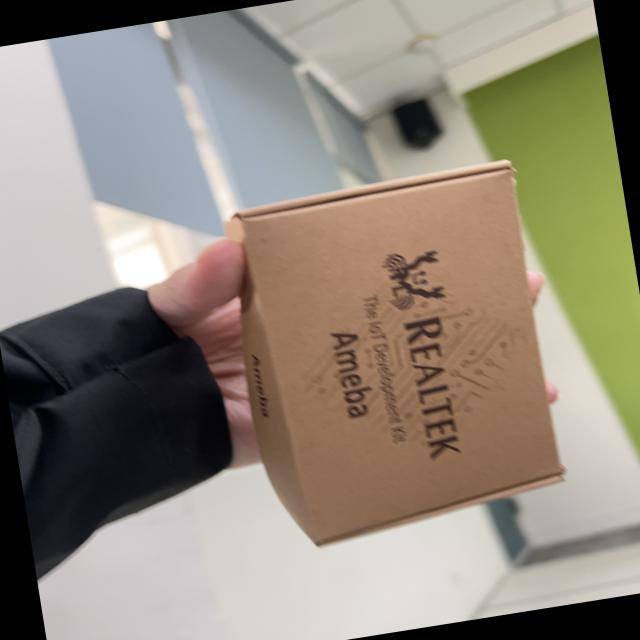box: (210, 148, 584, 568)
